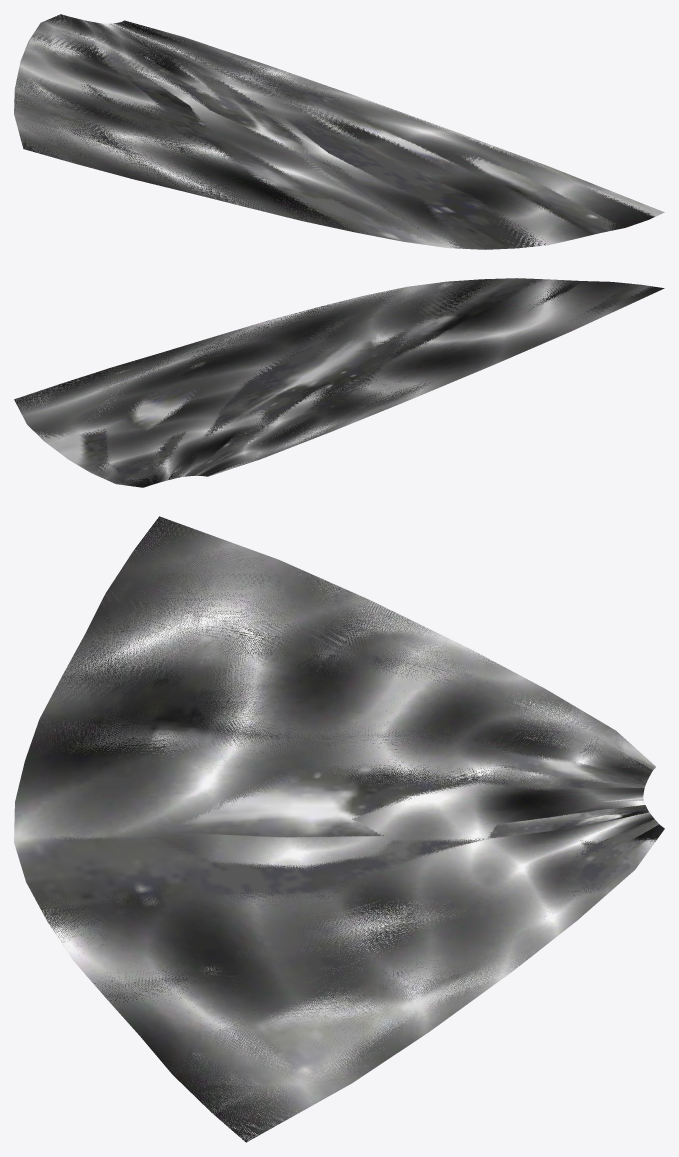
The model's file is effect_axiuluo_atk05_atk_dongzuo (2).fbx.
The picture shows the model from 3 angles, top to bottom: view 1: azimuth 30°, elevation 25°; view 2: azimuth 150°, elevation 25°; view 3: azimuth 270°, elevation 25°; orthographic projection. The views are drawn at different scales.
Parts seen in each view (by area): view 1: effect_axiuluo_atk05_Plane001, effect_axiuluo_atk05_Plane001 (1); view 2: effect_axiuluo_atk05_Plane001, effect_axiuluo_atk05_Plane001 (1); view 3: effect_axiuluo_atk05_Plane001, effect_axiuluo_atk05_Plane001 (1).
Boxes of the visible parts, bbox=[...] form: effect_axiuluo_atk05_Plane001: bbox=[14, 14, 654, 248]; effect_axiuluo_atk05_Plane001 (1): bbox=[14, 15, 664, 249]; effect_axiuluo_atk05_Plane001: bbox=[14, 278, 664, 487]; effect_axiuluo_atk05_Plane001 (1): bbox=[14, 278, 652, 483]; effect_axiuluo_atk05_Plane001: bbox=[14, 516, 664, 1142]; effect_axiuluo_atk05_Plane001 (1): bbox=[14, 518, 658, 1141].
Bounding box in the file's own units: 5.61 × 2.04 × 4.39.
